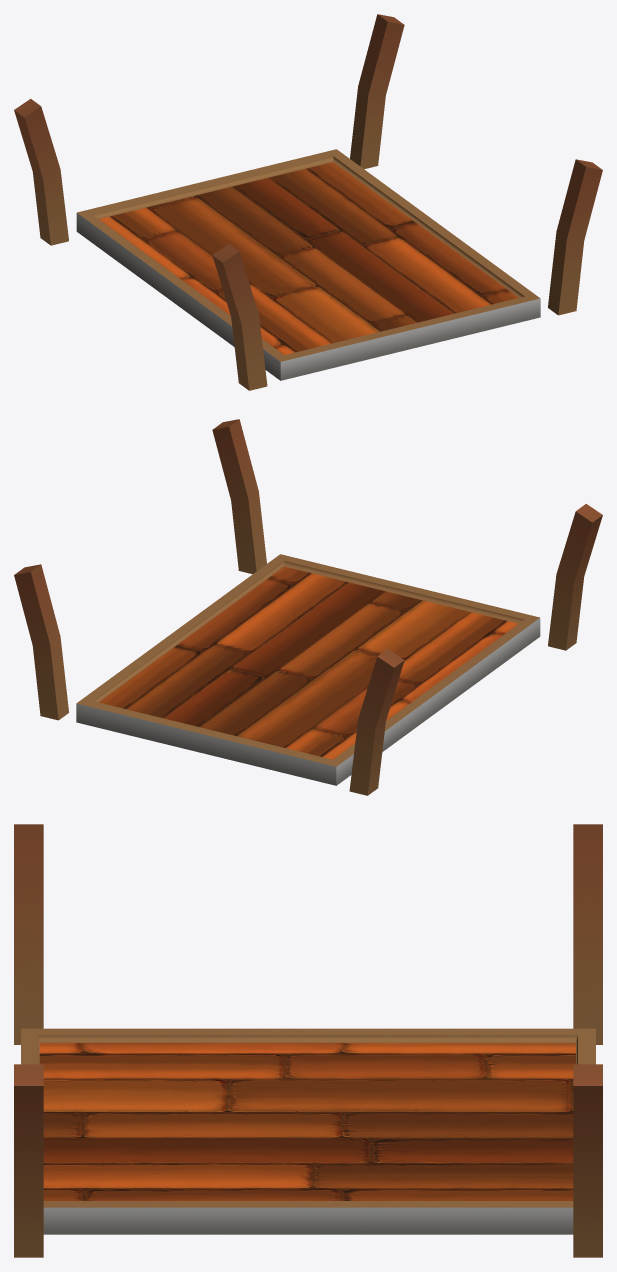
Rendered from VikingHouse_05_M.fbx.
3 views of the same model, one above another, from view 1: azimuth 30°, elevation 25°; view 2: azimuth 150°, elevation 25°; view 3: azimuth 270°, elevation 25° (orthographic). The views are drawn at different scales.
Parts seen in each view (by area): view 1: VikingHouse_05_M; view 2: VikingHouse_05_M; view 3: VikingHouse_05_M.
Boxes of the visible parts, <box> form: VikingHouse_05_M: <box>14,14,602,390</box>; VikingHouse_05_M: <box>14,419,602,795</box>; VikingHouse_05_M: <box>14,824,602,1257</box>.
Size of the model in its own units: 418 by 149 by 398.
1 material, 1 textured.
